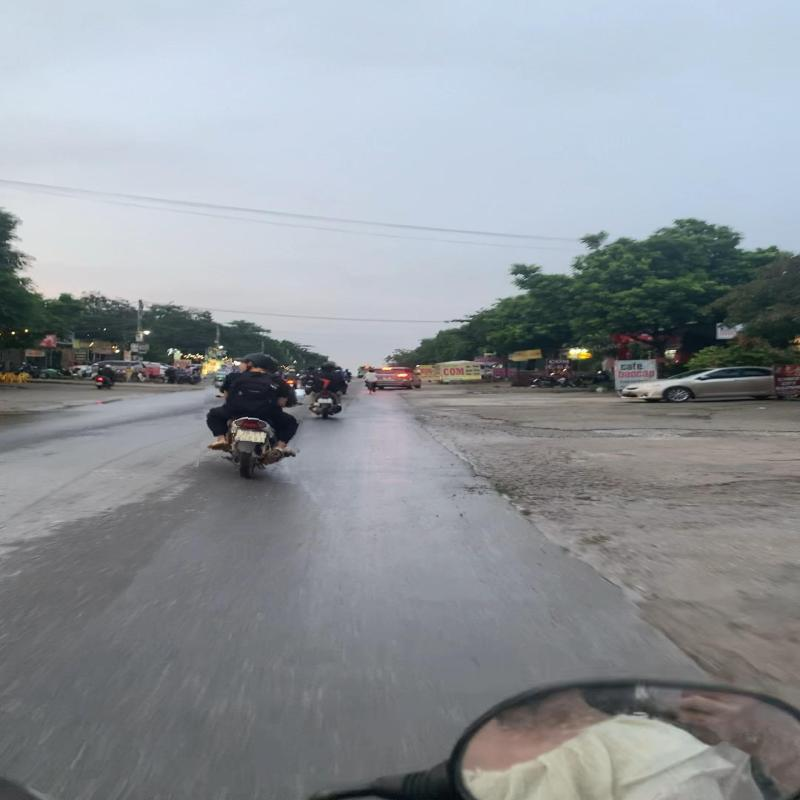helmet: (232, 352, 272, 373)
licenseplate: (234, 430, 270, 444)
motorcyclist: (201, 350, 306, 482)
